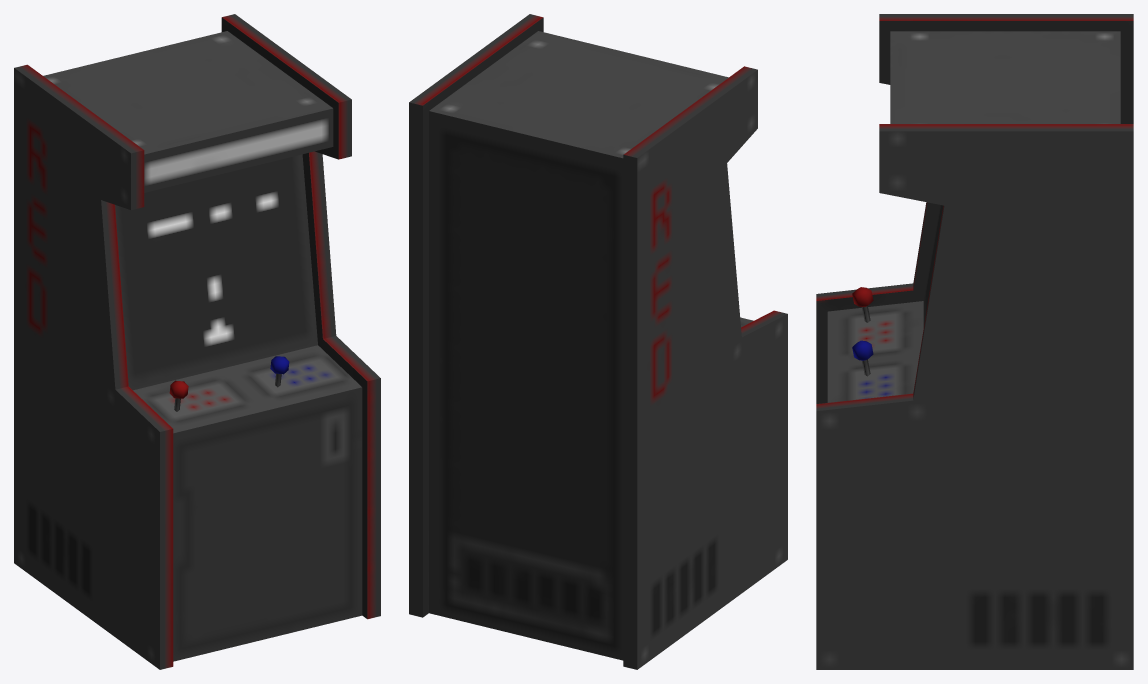
Rendered from Arcade_Machine_001.FBX.
3 views of the same model, side by side, from view 1: azimuth 30°, elevation 25°; view 2: azimuth 150°, elevation 25°; view 3: azimuth 270°, elevation 25° (orthographic). The views are drawn at different scales.
Visible parts, largest first — view 1: Arcade_Machine_001; view 2: Arcade_Machine_001; view 3: Arcade_Machine_001.
Part boxes in pixels (left/top/right/bottom): Arcade_Machine_001: left=14, top=14, right=380, bottom=669; Arcade_Machine_001: left=409, top=14, right=787, bottom=669; Arcade_Machine_001: left=816, top=14, right=1133, bottom=669.
Size of the model in its own units: 70 by 80 by 150.
